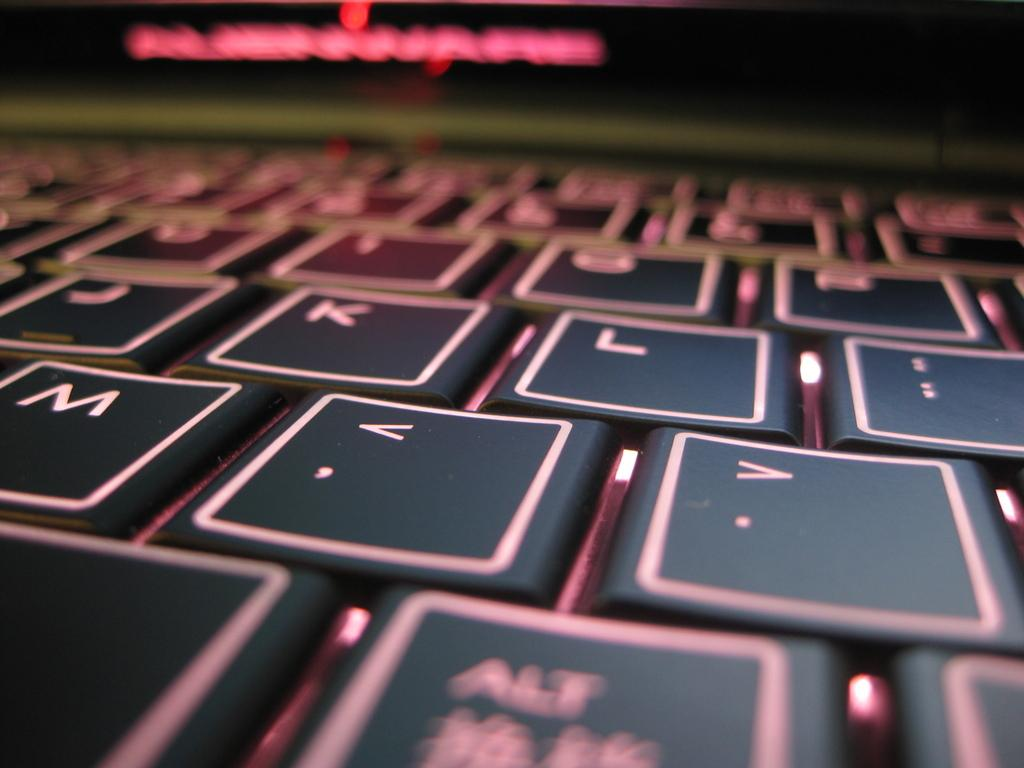Computer-keyboard: (1, 132, 1024, 765)
